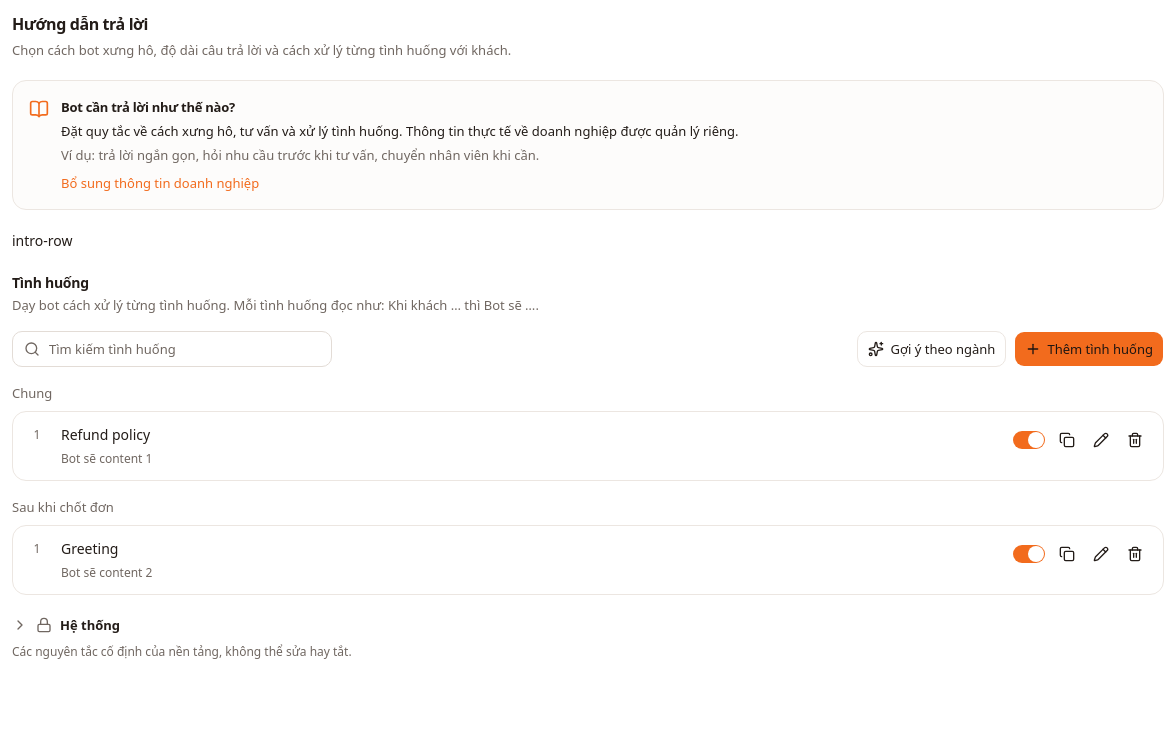
RulesList › filters rules by search text and hides empty groups
Expected: the heading "Hướng dẫn trả lời" is shown, [12,13,148,35]
Expected: the heading "Refund policy" is shown, [61,425,150,444]
Type "refund" into the search field labelled "Tìm kiếm tình huống".
click(172, 349); type("refund")  # box [12,331,332,367]
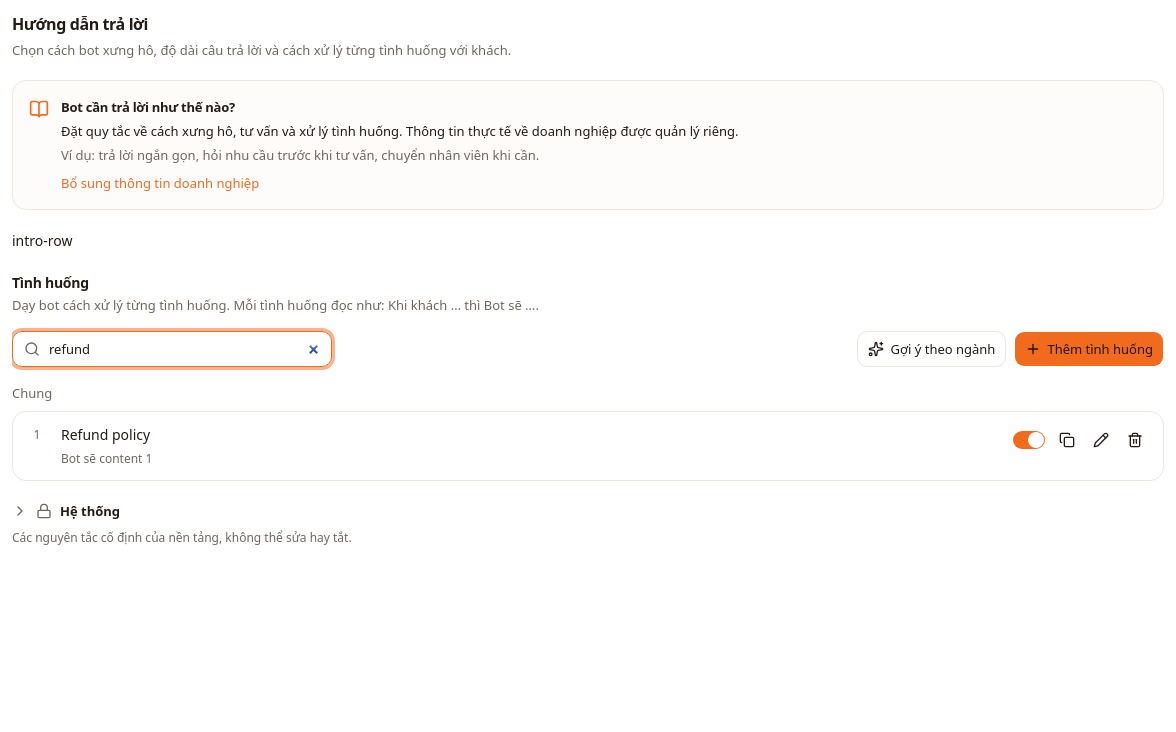
Expected: the heading "Refund policy" is shown, [61,425,150,444]
Now the button "Greeting" is gone
Now the heading "Sau khi chốt đơn" is gone
Replace the text in the search field named "Tìm kiếm tình huống" with "zzz" at (172, 349), box [12,331,332,367]
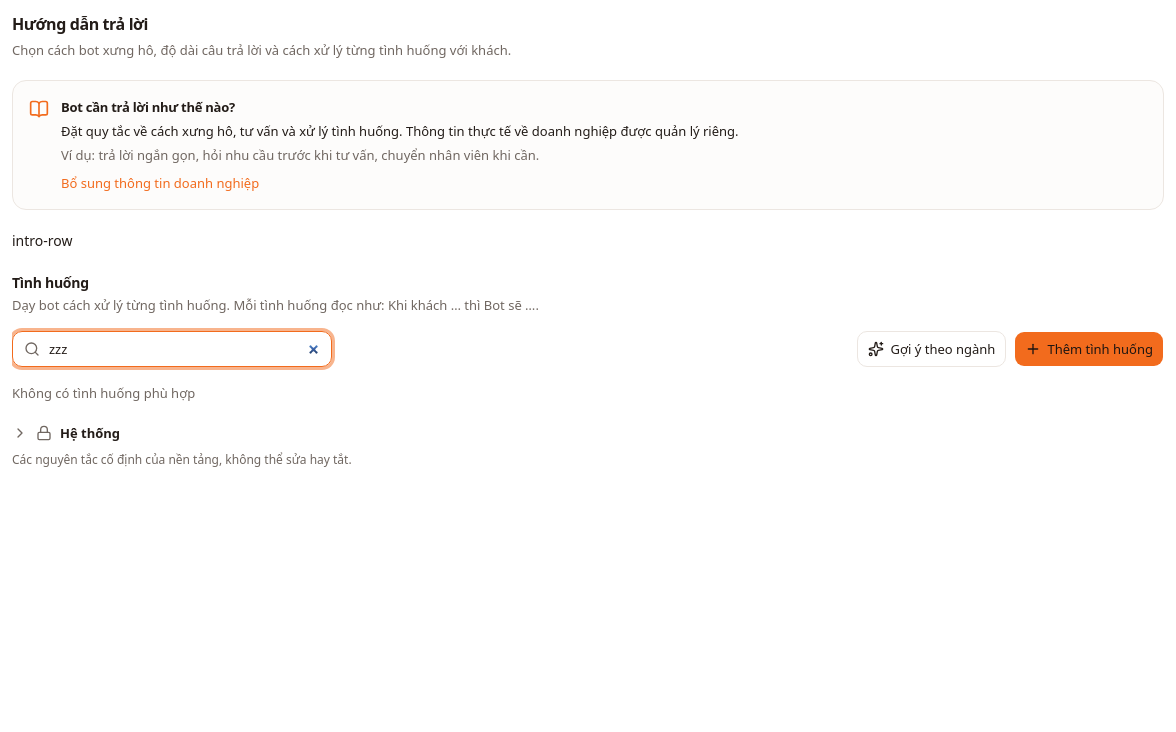
Now the text "Không có tình huống phù hợp" is shown, box [12,384,195,402]
